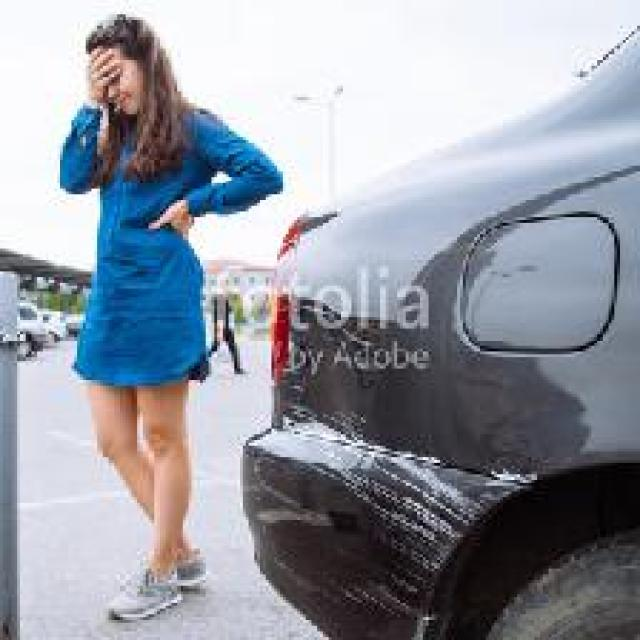bumper_scratch_severe: (274, 374, 534, 611)
